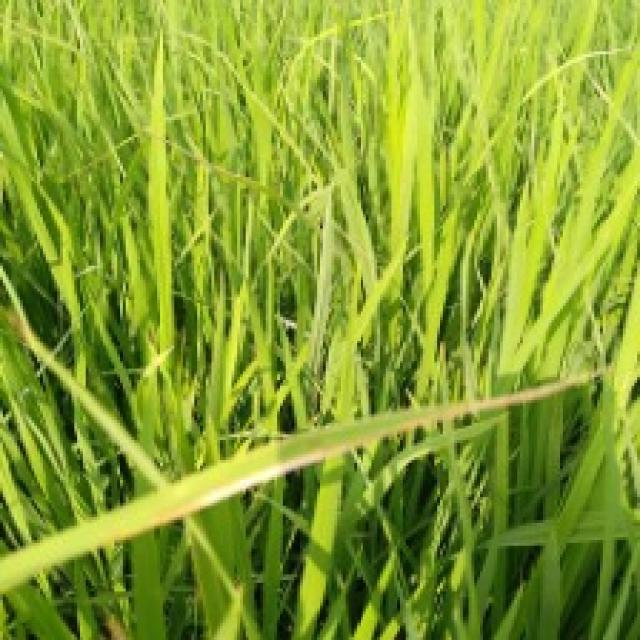Rice___Bacterial_Leaf_Blight: (0, 374, 598, 603)
